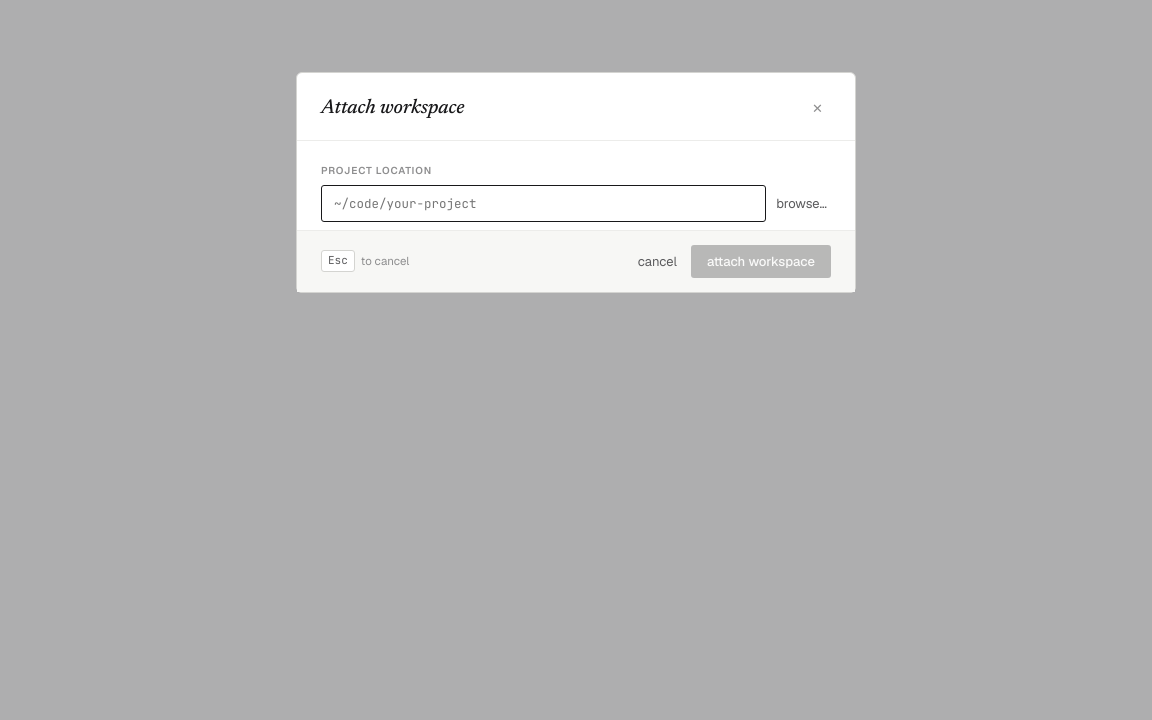
Scenario: SPEC-ui-015 — SDD detection preview and command peek › SPEC-ui-015: missing .sdd shows "initialize & attach" label and a /sdd:init command peek
This screenshot has width=1152, height=720.
Type "/fresh/repo" into the field with placeholder "~/code/your-project" at (544, 203), box [321,184,766,222]
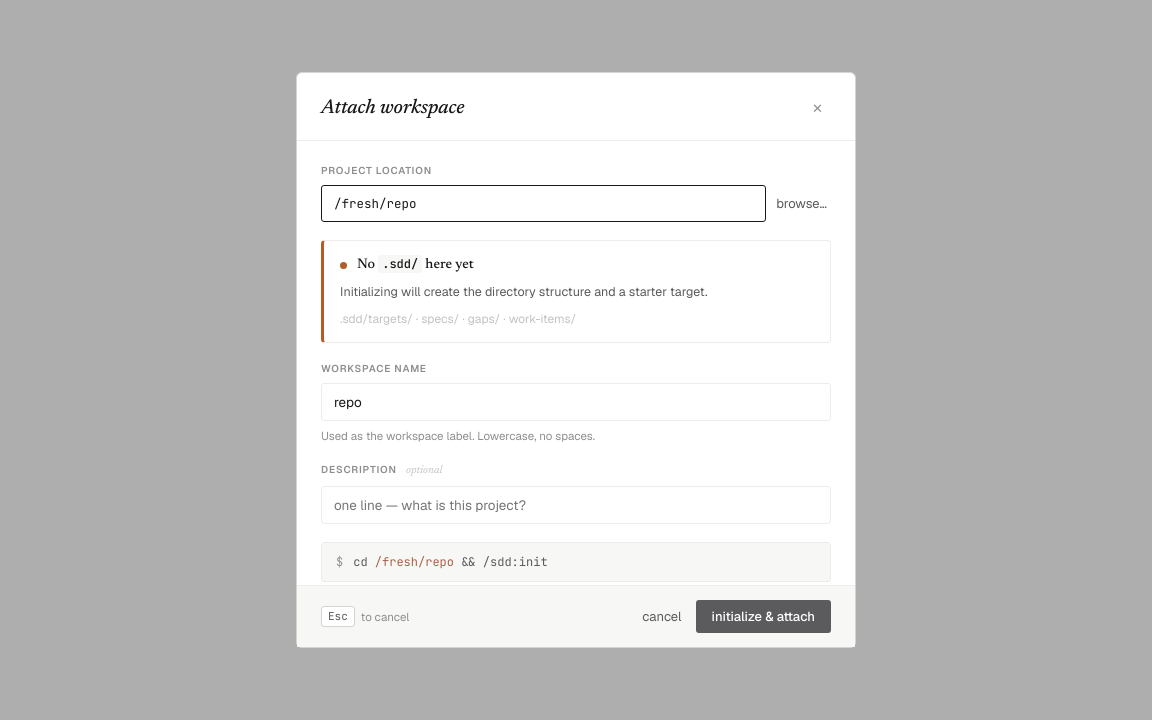
Result: the element with class "dlg-preview" is shown at [321,240,831,343]
Result: the element with class "dlg-preview" shows "No" at [357,258,378,272]
Result: the button with class "dlg-submit" reads "initialize & attach" at [696,600,831,633]
